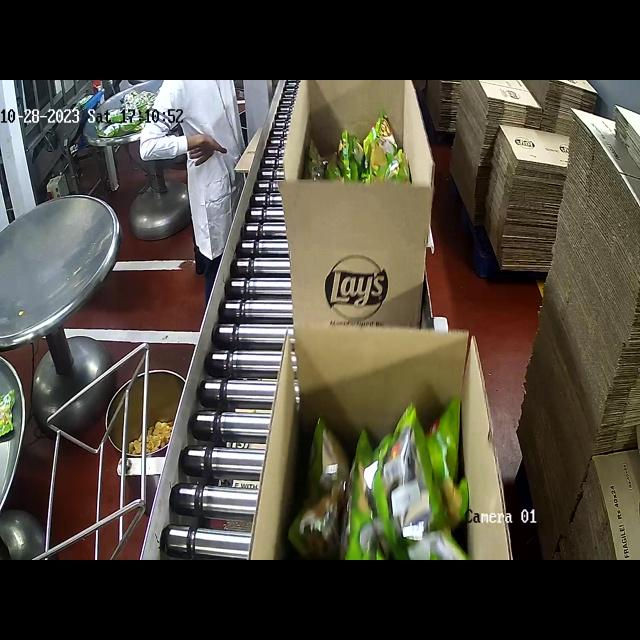yogurt: (301, 400, 464, 560), (297, 104, 427, 201)
